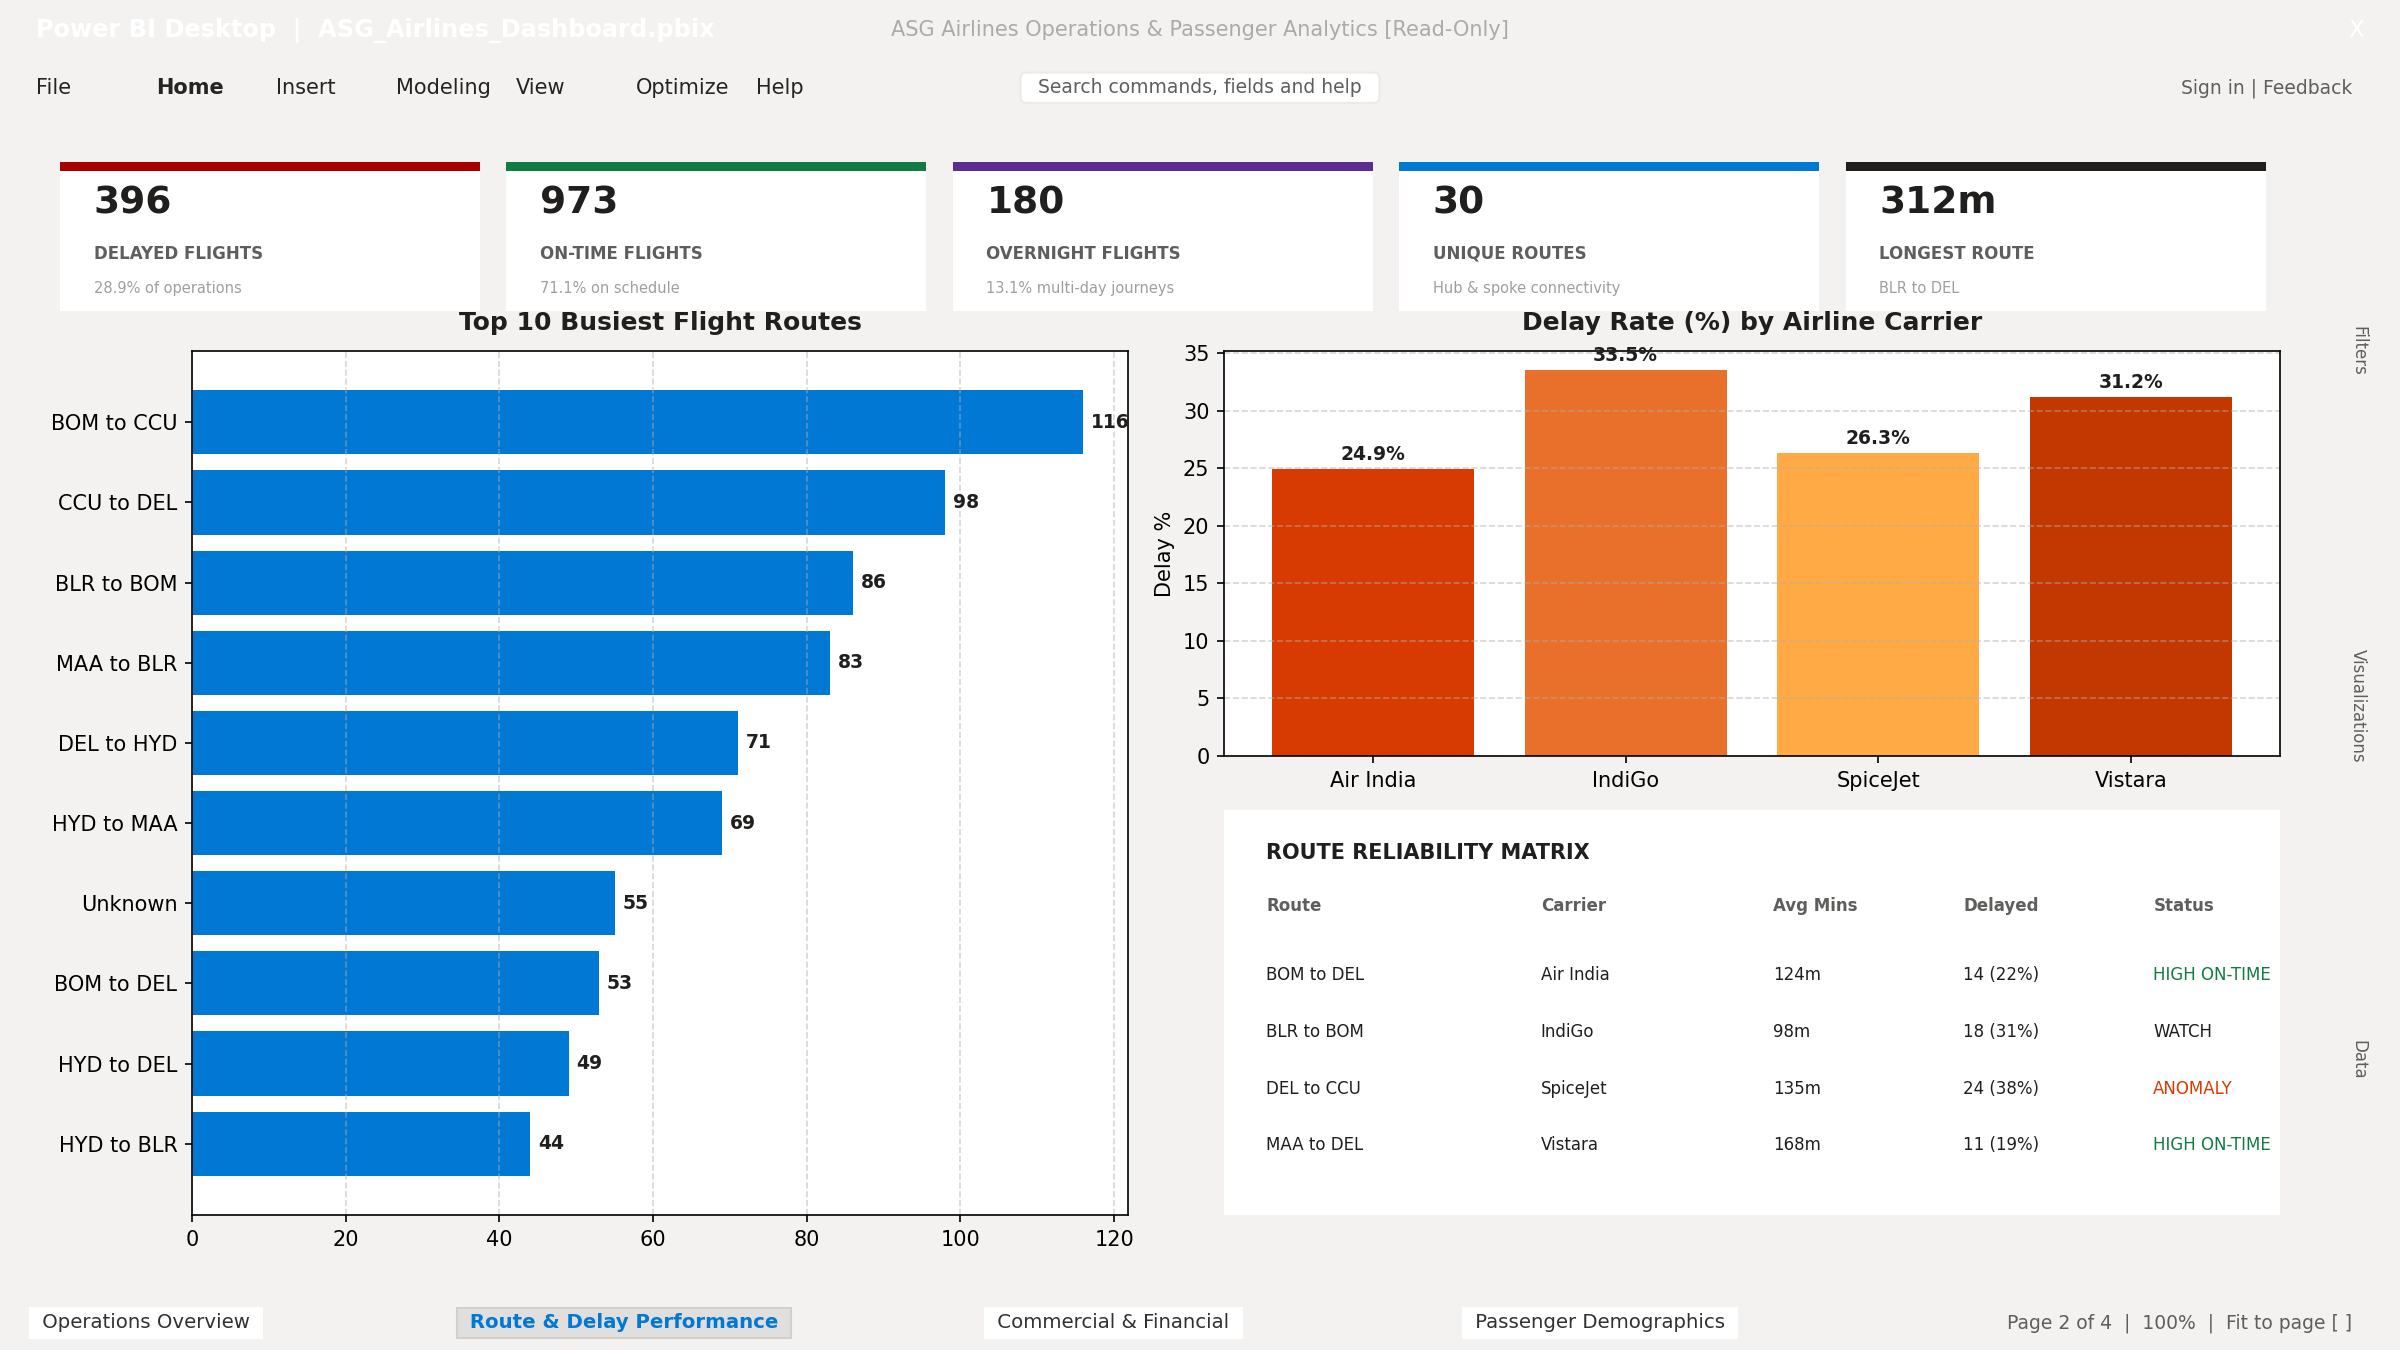

This screenshot's page, from the dashboard's own definition file:
{"tool":"powerbi","page":{"name":"Route & Delay Performance","canvas":[1280,720],"ordinal":1},"visuals":[{"type":"card","fields":{"Values":["master_dataset.Delayed Flights"]},"box":[20,20,280,110],"z":0},{"type":"card","fields":{"Values":["master_dataset.Overnight Flights"]},"box":[320,20,280,110],"z":1000},{"type":"card","fields":{"Values":["master_dataset.Avg Duration"]},"box":[620,20,280,110],"z":2000},{"type":"barChart","fields":{"Category":["master_dataset.route"],"Y":["master_dataset.Total Bookings"]},"box":[20,150,600,340],"z":3000},{"type":"columnChart","fields":{"Category":["master_dataset.airline"],"Y":["master_dataset.Delayed Flights"]},"box":[640,150,580,340],"z":4000},{"type":"slicer","fields":{"Values":["master_dataset.source"]},"box":[20,510,380,170],"z":5000},{"type":"slicer","fields":{"Values":["master_dataset.destination"]},"box":[420,510,380,170],"z":6000}]}

Visuals, with their boxes on the page's 1280x720 design canvas (x1, y1, x2, y2). These are canvas units, not pixel positions in the 2400x1350 screenshot, which may show the page scaled, cropped or inside an application window:
card - master_dataset.Delayed Flights: (left=20, top=20, right=300, bottom=130)
card - master_dataset.Overnight Flights: (left=320, top=20, right=600, bottom=130)
card - master_dataset.Avg Duration: (left=620, top=20, right=900, bottom=130)
barChart - master_dataset.route x master_dataset.Total Bookings: (left=20, top=150, right=620, bottom=490)
columnChart - master_dataset.airline x master_dataset.Delayed Flights: (left=640, top=150, right=1220, bottom=490)
slicer - master_dataset.source: (left=20, top=510, right=400, bottom=680)
slicer - master_dataset.destination: (left=420, top=510, right=800, bottom=680)
